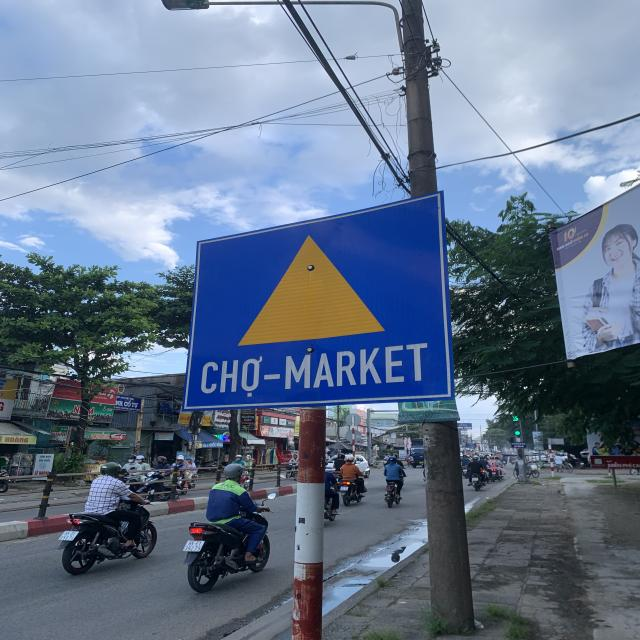Cho_Quay_Xe: (191, 197, 453, 405)
